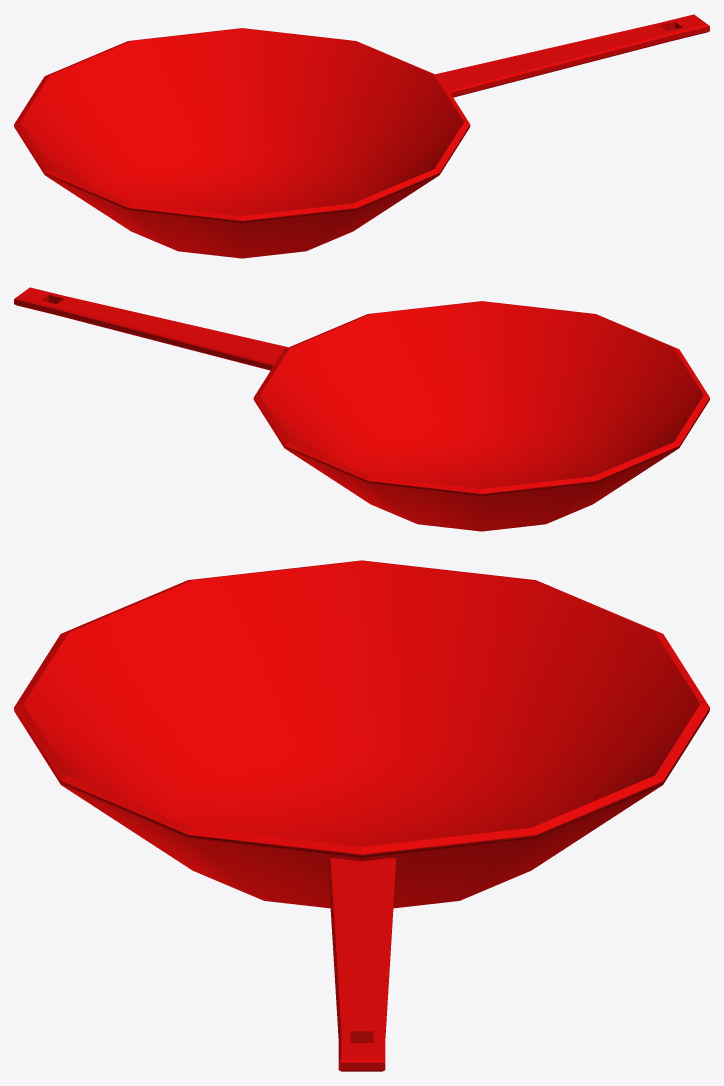
The model's file is Pan.fbx.
3 views of the same model, one above another, from view 1: azimuth 30°, elevation 25°; view 2: azimuth 150°, elevation 25°; view 3: azimuth 270°, elevation 25° (orthographic). The views are drawn at different scales.
Parts seen in each view (by area): view 1: Pan; view 2: Pan; view 3: Pan.
Boxes of the visible parts, x1=… form: Pan: x1=14, y1=14, x2=709, y2=258; Pan: x1=14, y1=287, x2=709, y2=531; Pan: x1=14, y1=560, x2=709, y2=1071.
Size of the model in its own units: 423 by 50.51 by 254.
